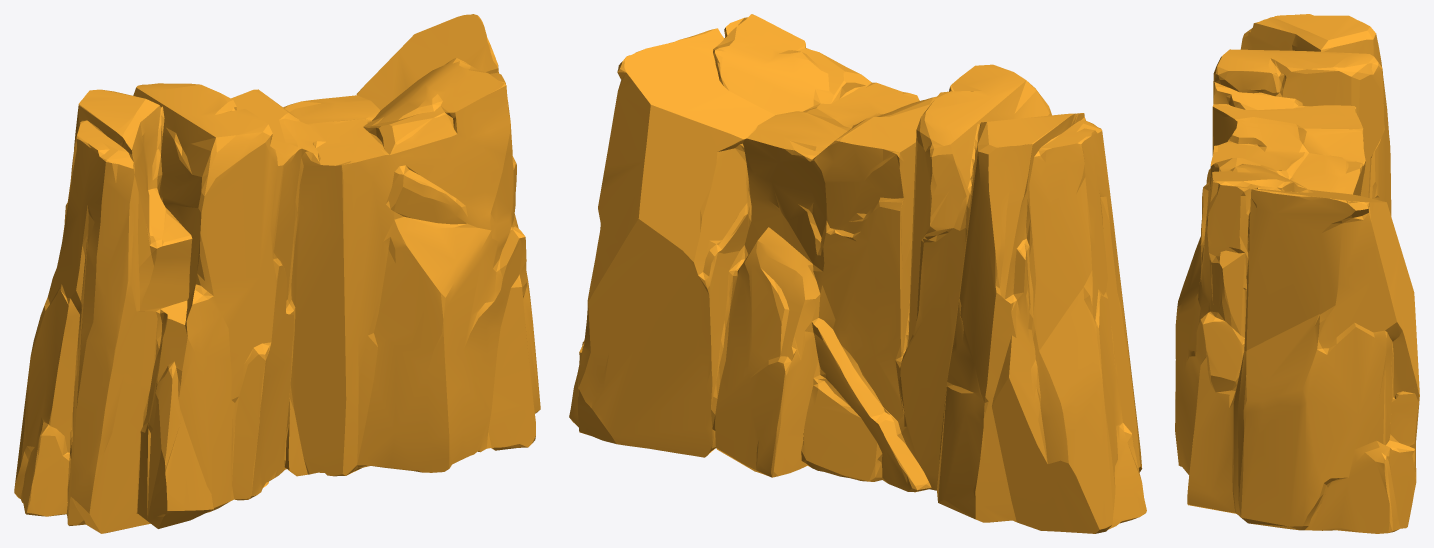
Rendered from SM_Iceberg_Big_D_Plane.fbx.
3 views of the same model, side by side, from view 1: azimuth 30°, elevation 25°; view 2: azimuth 150°, elevation 25°; view 3: azimuth 270°, elevation 25° (orthographic). The views are drawn at different scales.
Visible parts, largest first — view 1: iceberg-big-d-plane; view 2: iceberg-big-d-plane; view 3: iceberg-big-d-plane.
Boxes of the visible parts, x1,y1,x2,y2 form: iceberg-big-d-plane: [14, 14, 540, 533]; iceberg-big-d-plane: [569, 14, 1146, 533]; iceberg-big-d-plane: [1175, 14, 1419, 533].
Size of the model in its own units: 34.25 by 24.06 by 15.53.
